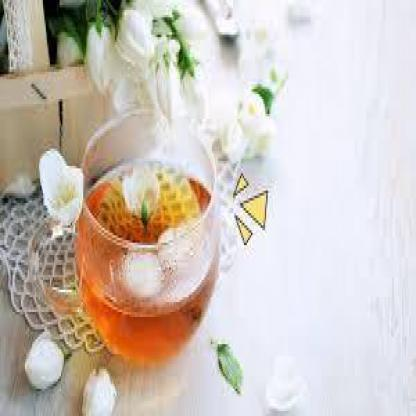Melati: (68, 16, 285, 145), (36, 130, 90, 229), (22, 318, 66, 400), (122, 147, 169, 217), (83, 355, 115, 415)
